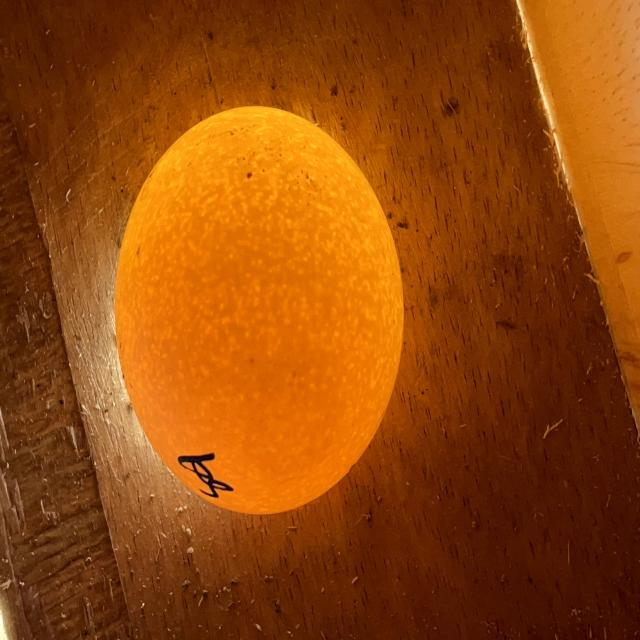infertile: (116, 107, 404, 513)
